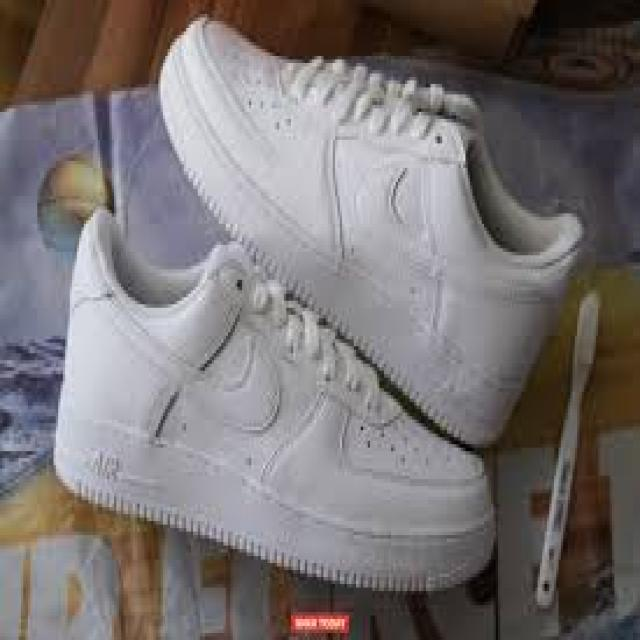shoes: (56, 21, 586, 606), (161, 18, 579, 450), (60, 209, 498, 594)
